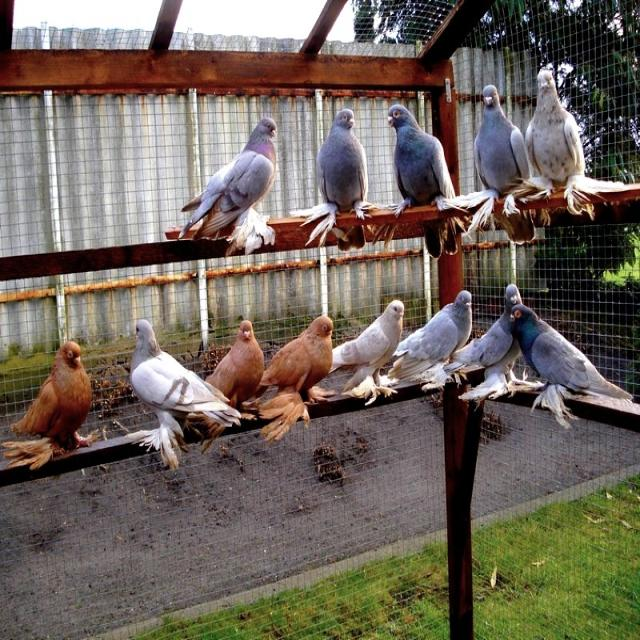bird: (125, 314, 242, 470), (182, 114, 283, 267), (508, 305, 640, 411), (0, 342, 99, 476), (524, 68, 588, 210), (393, 292, 474, 399), (387, 104, 455, 210), (315, 108, 367, 242), (474, 87, 530, 203), (336, 295, 404, 388), (264, 310, 336, 397), (216, 322, 267, 420)
